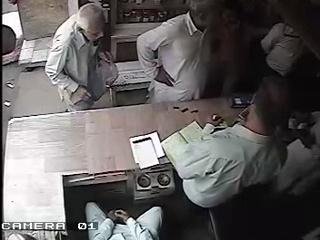Normal: (168, 76, 317, 240), (136, 0, 231, 104), (44, 2, 112, 112), (85, 202, 163, 239)
